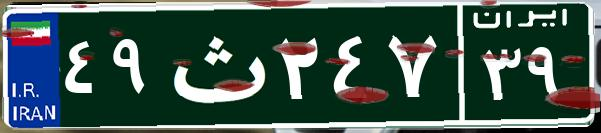2: (273, 28, 330, 110)
3: (475, 38, 525, 113)
4: (330, 28, 385, 110), (57, 26, 110, 107)
7: (385, 28, 445, 110)
9: (110, 28, 158, 105), (525, 38, 570, 115)
ث: (158, 15, 273, 115)
